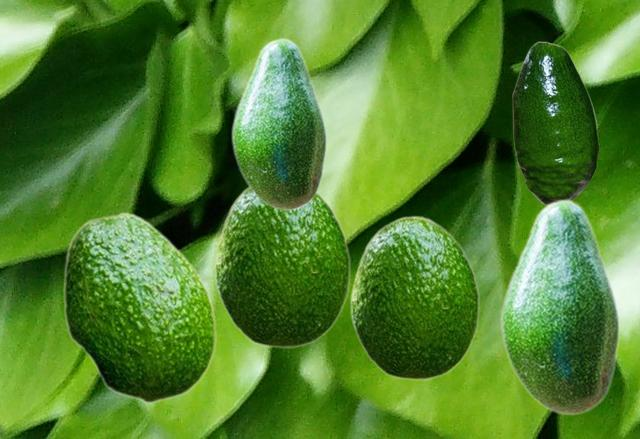avocado: (62, 211, 215, 402), (499, 198, 619, 415), (214, 186, 350, 347), (350, 215, 479, 379), (230, 37, 326, 210), (512, 41, 598, 204)
